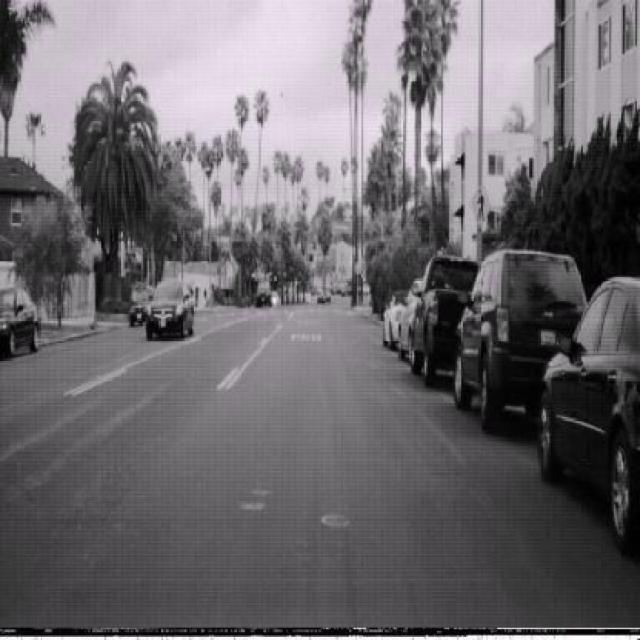pedestrianCrossing: (471, 182, 492, 229)
